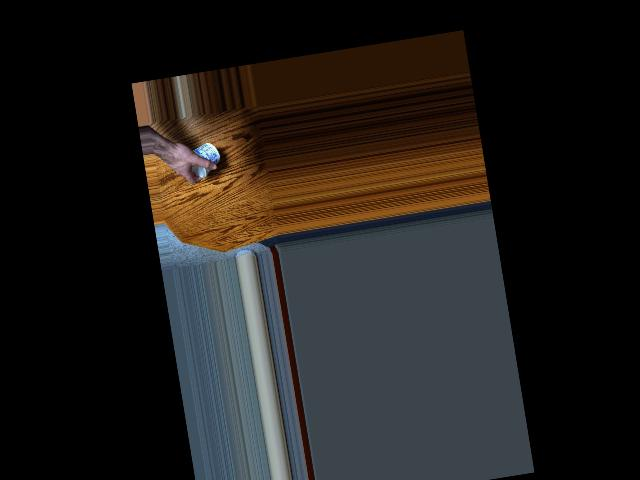cotage: (187, 137, 223, 180)
